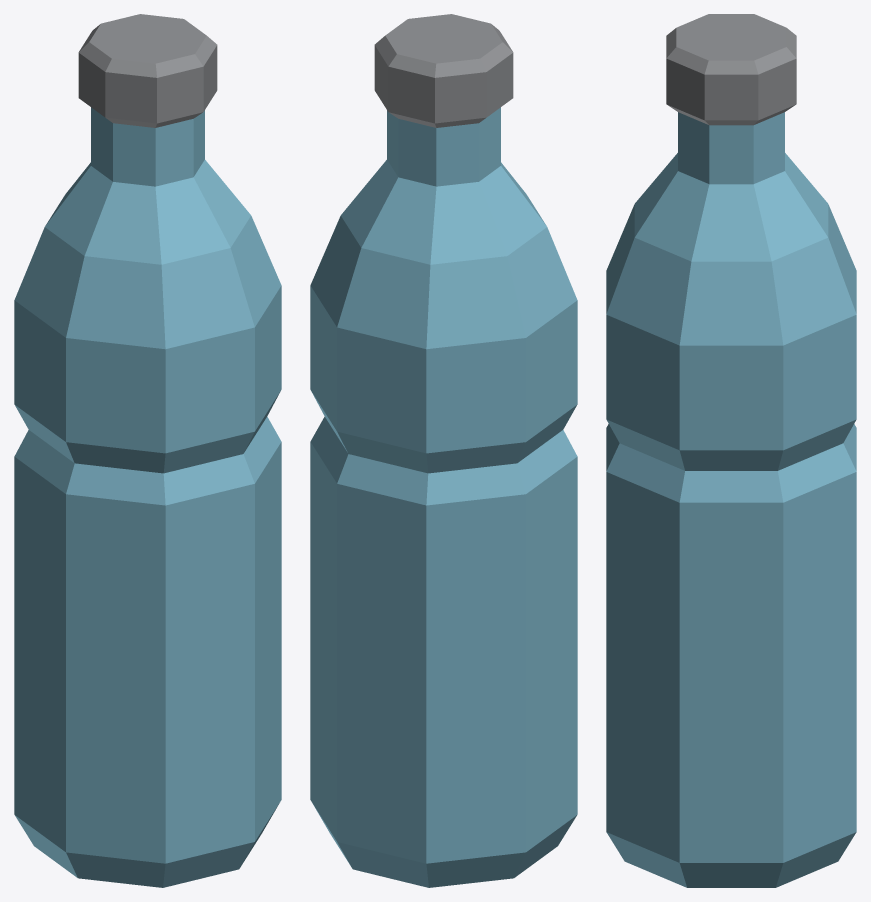
Rendered from SM_Clutter_Bottle_Blue_01.glb.
3 views of the same model, side by side, from view 1: azimuth 30°, elevation 25°; view 2: azimuth 150°, elevation 25°; view 3: azimuth 270°, elevation 25° (orthographic).
Visible parts, largest first — view 1: SM_Clutter_Bottle_Blue_01; view 2: SM_Clutter_Bottle_Blue_01; view 3: SM_Clutter_Bottle_Blue_01.
Boxes of the visible parts, x1,y1,x2,y2 form: SM_Clutter_Bottle_Blue_01: (14,14,281,887); SM_Clutter_Bottle_Blue_01: (310,14,577,887); SM_Clutter_Bottle_Blue_01: (606,14,856,887).
Size of the model in its own units: 0.0693 by 0.246 by 0.0693.
Materials: 1 (1 with a texture image).
